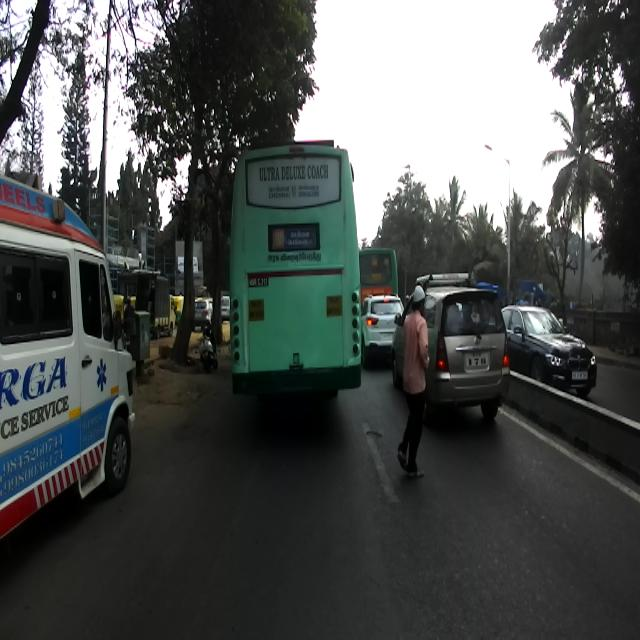bus ahead at: (0, 169, 138, 535), (232, 143, 362, 396)
car ahead at: (431, 274, 514, 424)
motorcycle ahead at: (198, 312, 220, 369)
person ahead at: (397, 282, 437, 480)
tree ahead at: (178, 118, 202, 372)
